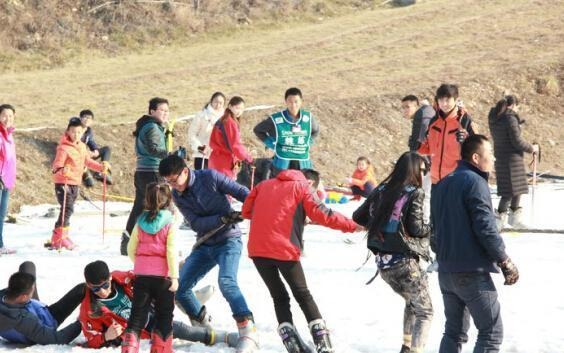Fall-Detected: (46, 260, 228, 350)
